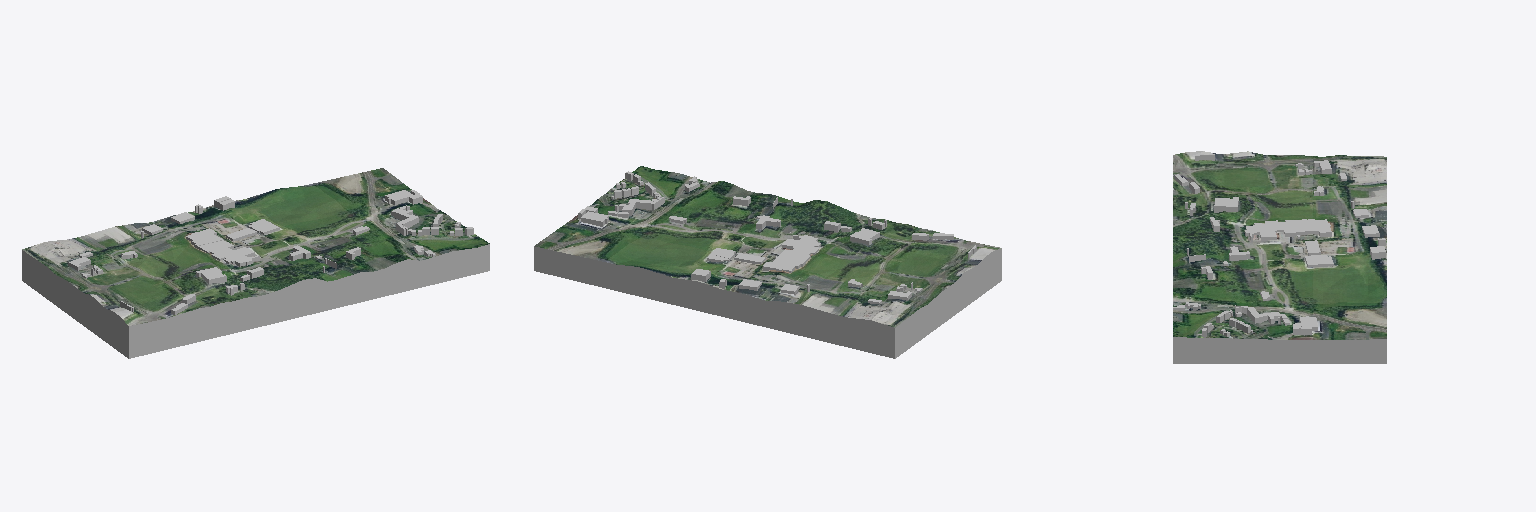
3 renders of one model, left to right at view 1: azimuth 30°, elevation 25°; view 2: azimuth 150°, elevation 25°; view 3: azimuth 270°, elevation 25°, orthographic.
Visible parts, largest first — view 1: object_4, object_8, object_6, object_45; view 2: object_4, object_7, object_6, object_45; view 3: object_4, object_5, object_45.
Boxes of the visible parts, box(x1,y1,x2,y2) form: object_4: box(22, 168, 489, 325); object_8: box(129, 244, 489, 358); object_6: box(22, 250, 128, 358); object_45: box(192, 234, 259, 266); object_4: box(535, 166, 1000, 327); object_7: box(534, 246, 894, 358); object_6: box(895, 248, 1001, 358); object_45: box(779, 235, 820, 268); object_4: box(1173, 151, 1386, 339); object_5: box(1173, 337, 1386, 363); object_45: box(1245, 220, 1319, 241).
Size of the model in its own units: 80.53 by 8.44 by 41.32.
Materials: 4 (1 with a texture image).